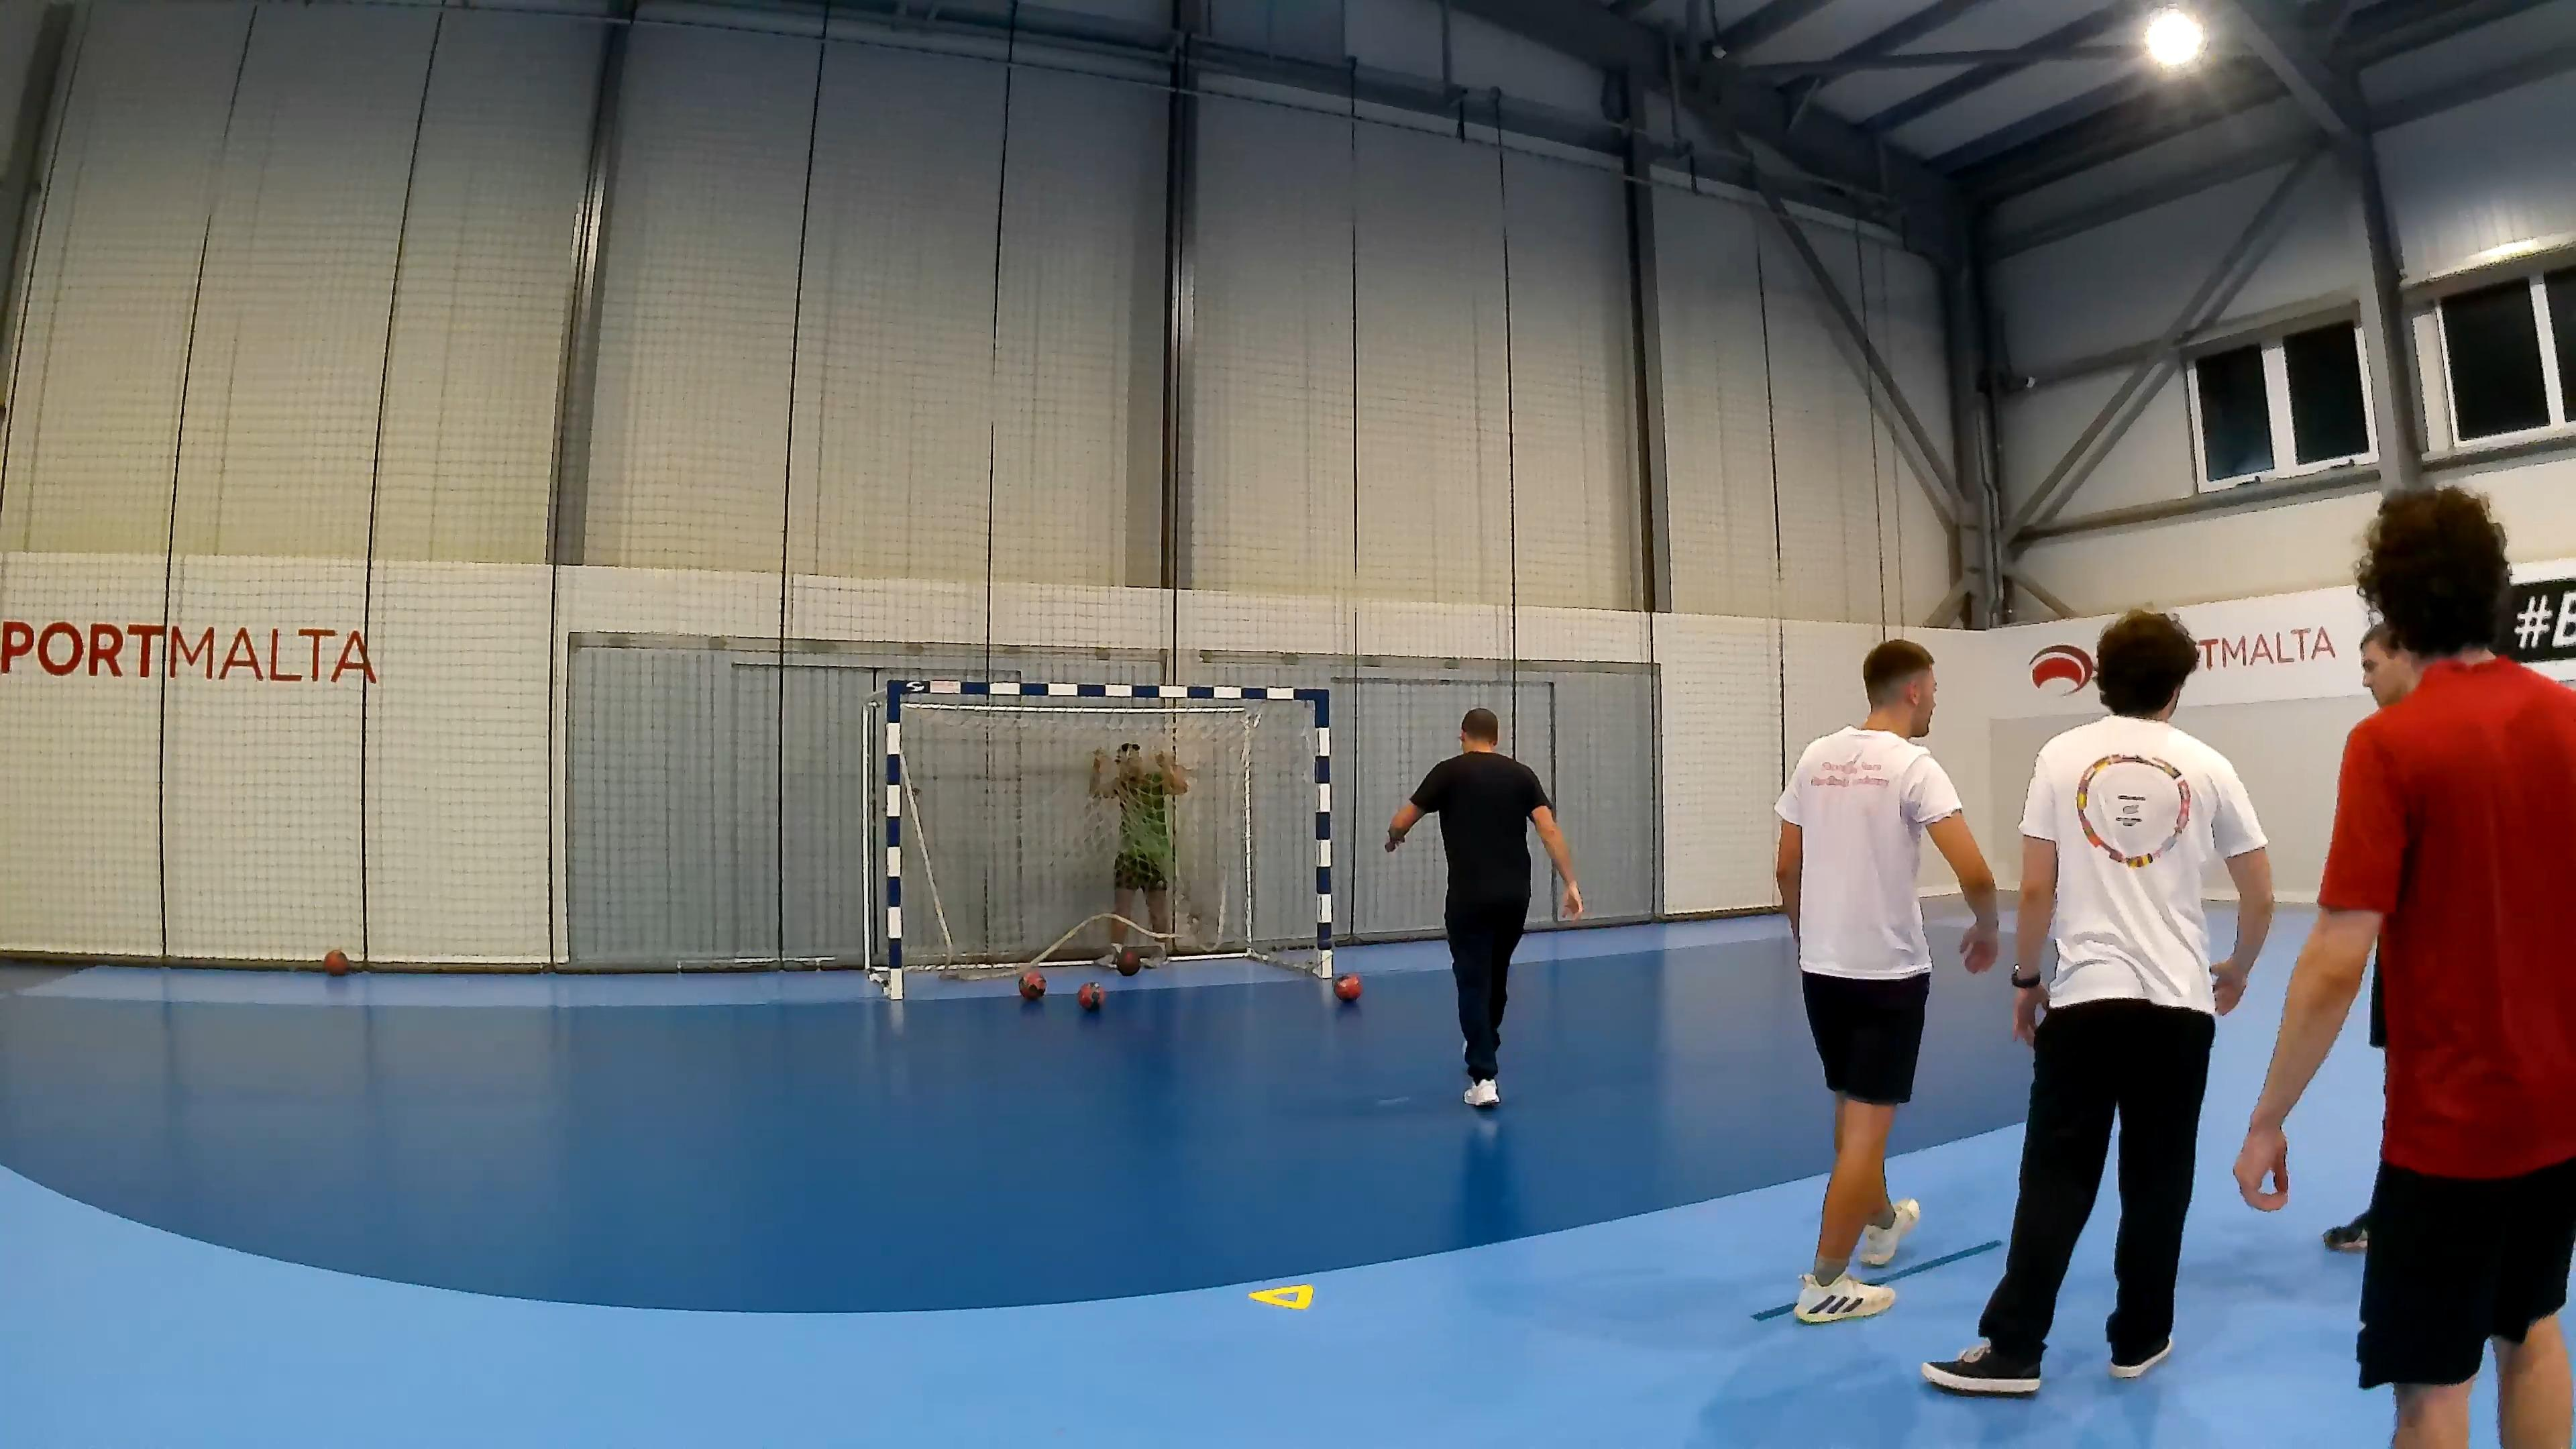handball: (1332, 971, 1362, 1001), (1017, 968, 1046, 1000), (1076, 980, 1102, 1008)
